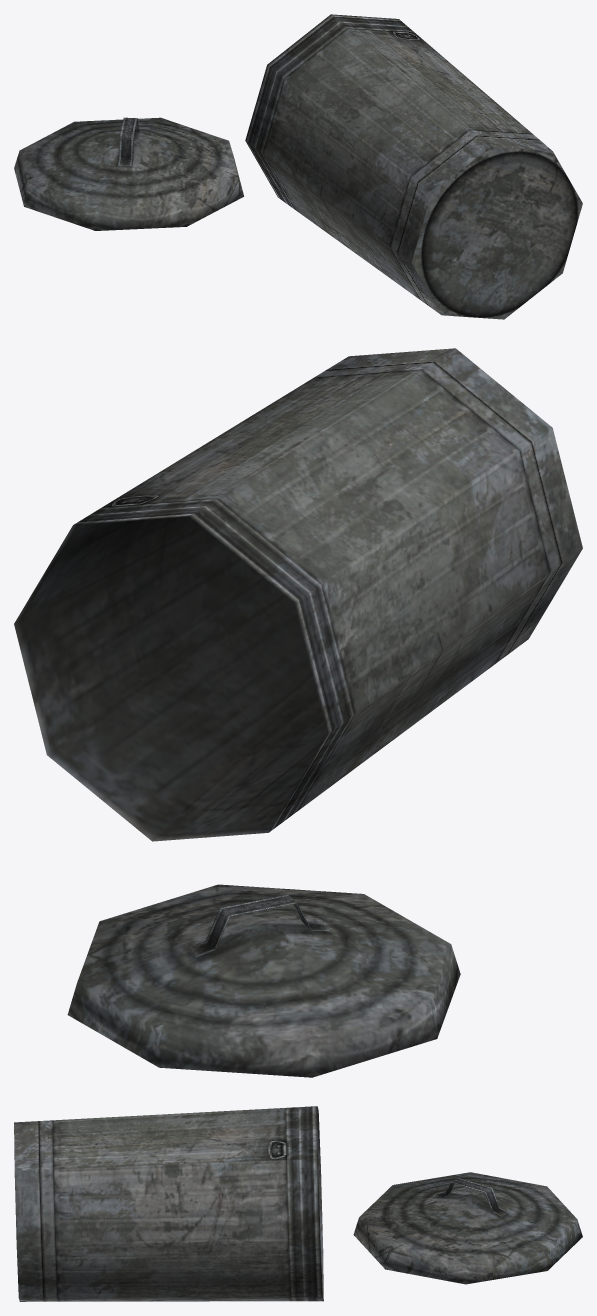
The model's file is Trash2_LOD1.fbx.
3 renders of one model, top to bottom at view 1: azimuth 30°, elevation 25°; view 2: azimuth 150°, elevation 25°; view 3: azimuth 270°, elevation 25°, orthographic. The views are drawn at different scales.
Parts seen in each view (by area): view 1: polySurface9; view 2: polySurface9; view 3: polySurface9.
Part boxes in pixels (box(x1,y1,x2,y2)): polySurface9: box(14, 14, 582, 319); polySurface9: box(14, 348, 582, 1077); polySurface9: box(14, 1106, 582, 1301).
Bounding box in the file's own units: 1.18 × 0.6703 × 1.85.
